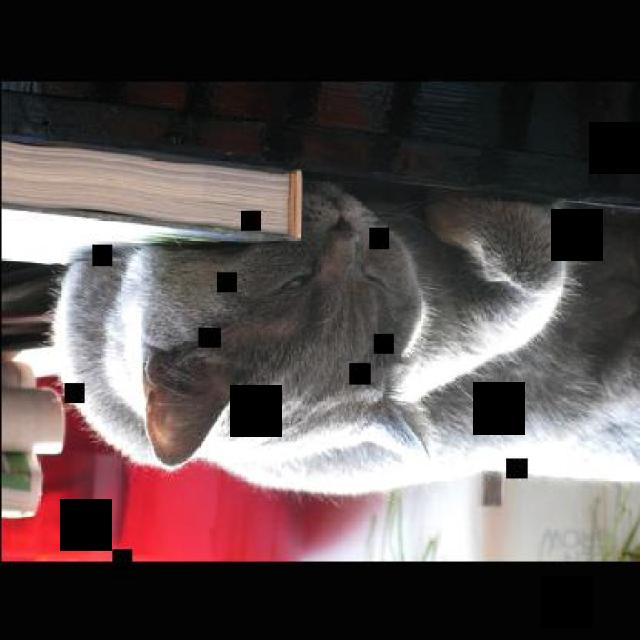unauthorized: (46, 172, 639, 497)
